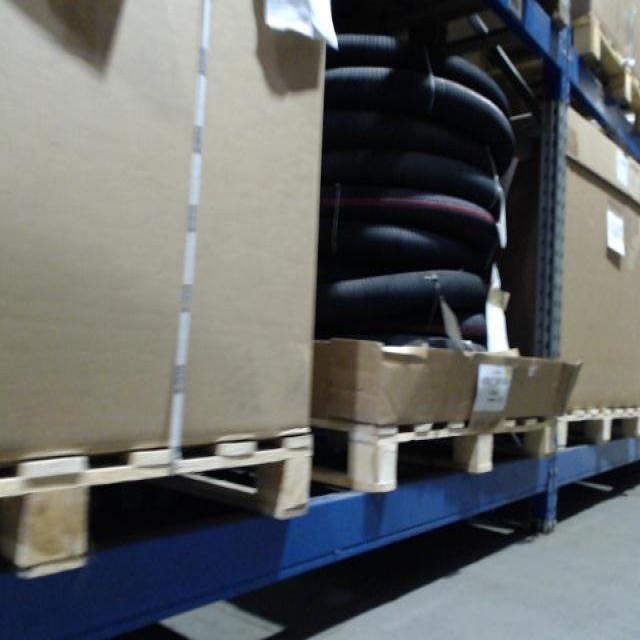pallet: (1, 420, 319, 584), (315, 397, 557, 493), (573, 7, 638, 145), (550, 398, 639, 459)
